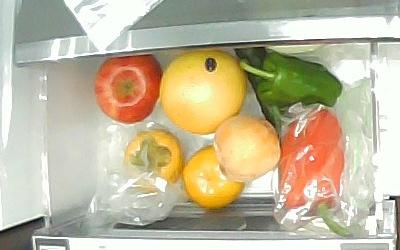apple: (94, 54, 162, 126)
cucumber: (234, 48, 294, 145)
grapefruit: (158, 50, 248, 136)
paprika: (238, 52, 343, 111)
paprika_vinyl: (278, 108, 353, 236)
peach: (213, 114, 281, 181)
persimmon: (183, 145, 245, 209)
persimmon_vinyl: (123, 129, 184, 192)
